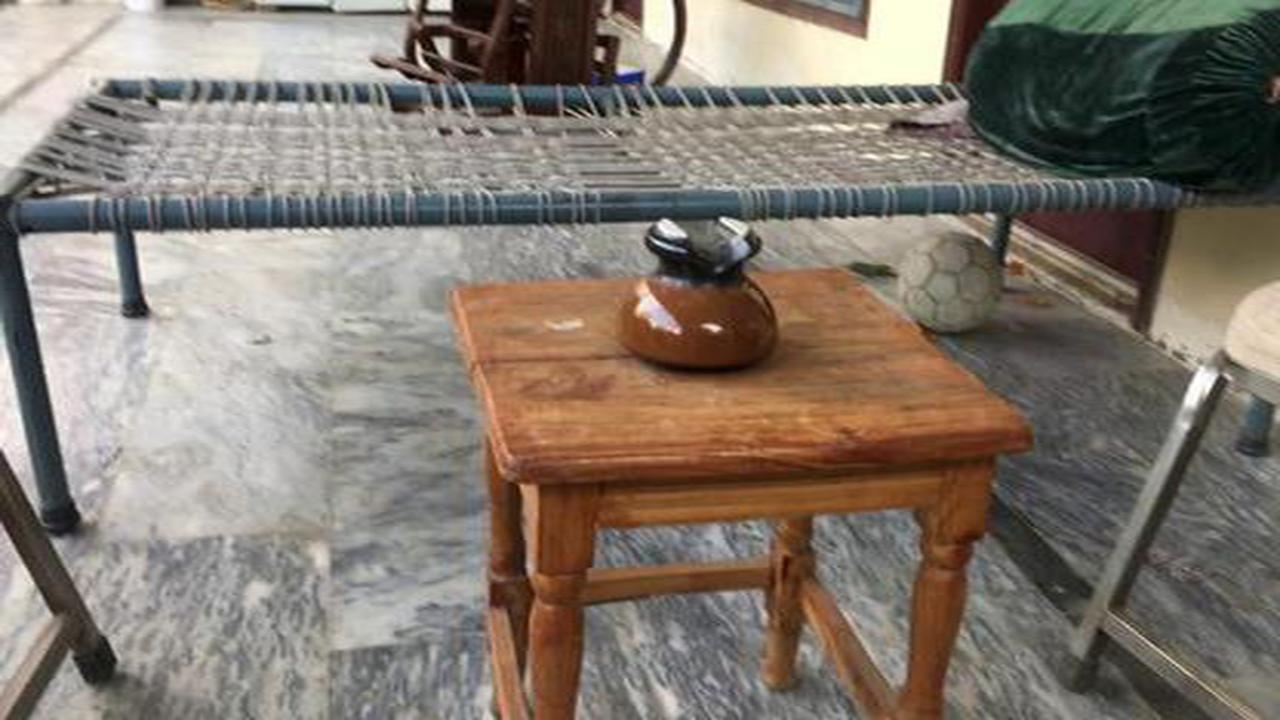insulator_pin: (594, 203, 801, 383)
